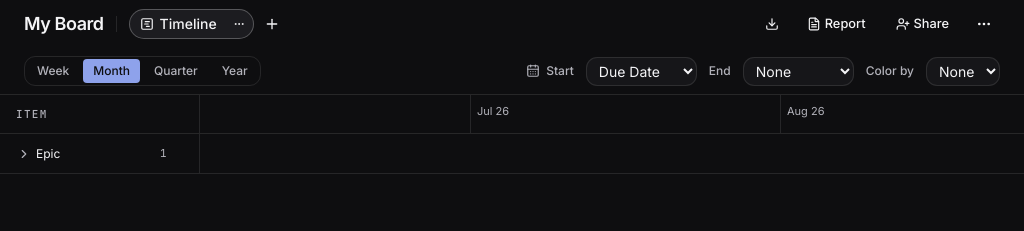
GanttBoard — sub-item nesting › shows an UNSCHEDULED parent as a collapsible header so its scheduled sub-items are reachable (QCC shape)
Expected: the field labelled "Task" is not shown
Step 1. Click the button named "expand sub-items of Epic" → coordinates (24, 154), box [16, 146, 32, 162]
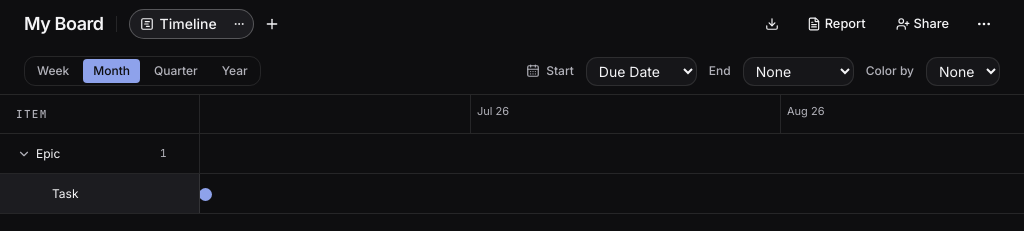
Expected: the button named "Task" is shown, [200, 185, 214, 203]
